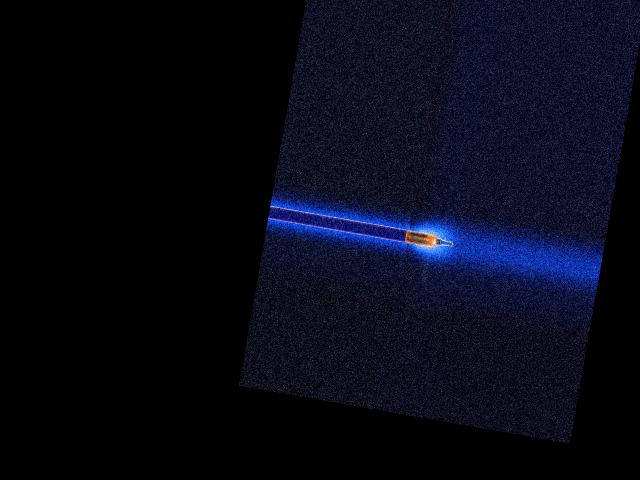beer: (404, 228, 453, 250)
